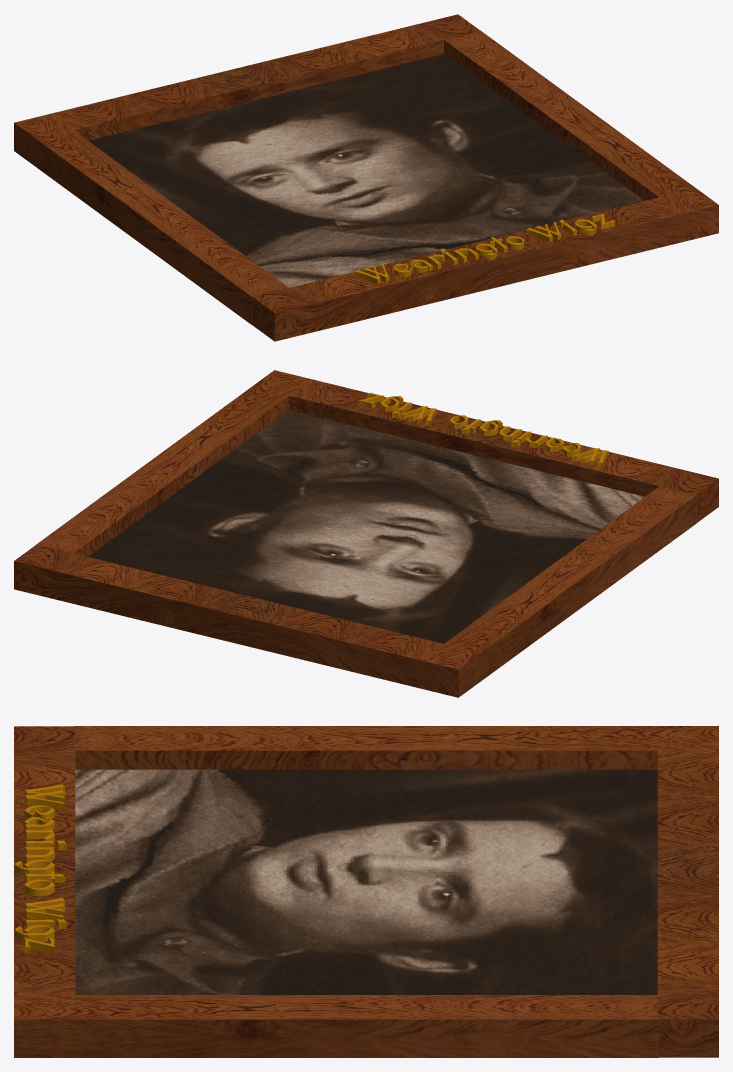
File: newmonkframe5.glb
3 views of the same model, one above another, from view 1: azimuth 30°, elevation 25°; view 2: azimuth 150°, elevation 25°; view 3: azimuth 270°, elevation 25° (orthographic). The views are drawn at different scales.
Visible parts, largest first — view 1: Plane, Cube.001, Cube, William Dafilo; view 2: Plane, Cube, Cube.001, William Dafilo; view 3: Plane, Cube.001, Cube, William Dafilo.
Boxes of the visible parts, x1,y1,x2,y2 form: Plane: [88, 54, 644, 287]; Cube.001: [252, 30, 718, 341]; Cube: [14, 14, 480, 325]; William Dafilo: [354, 213, 614, 284]; Plane: [88, 410, 644, 643]; Cube: [14, 486, 696, 697]; Cube.001: [36, 370, 718, 556]; William Dafilo: [358, 392, 608, 467]; Plane: [75, 769, 657, 994]; Cube.001: [14, 726, 659, 1057]; Cube: [74, 726, 718, 1057]; William Dafilo: [14, 784, 66, 953].
Bounding box in the file's own units: 0.6743 × 0.0482 × 0.6847.
3 materials, 2 textured.
